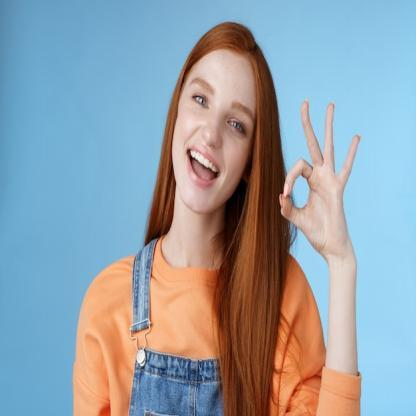ok: (272, 94, 363, 258)
